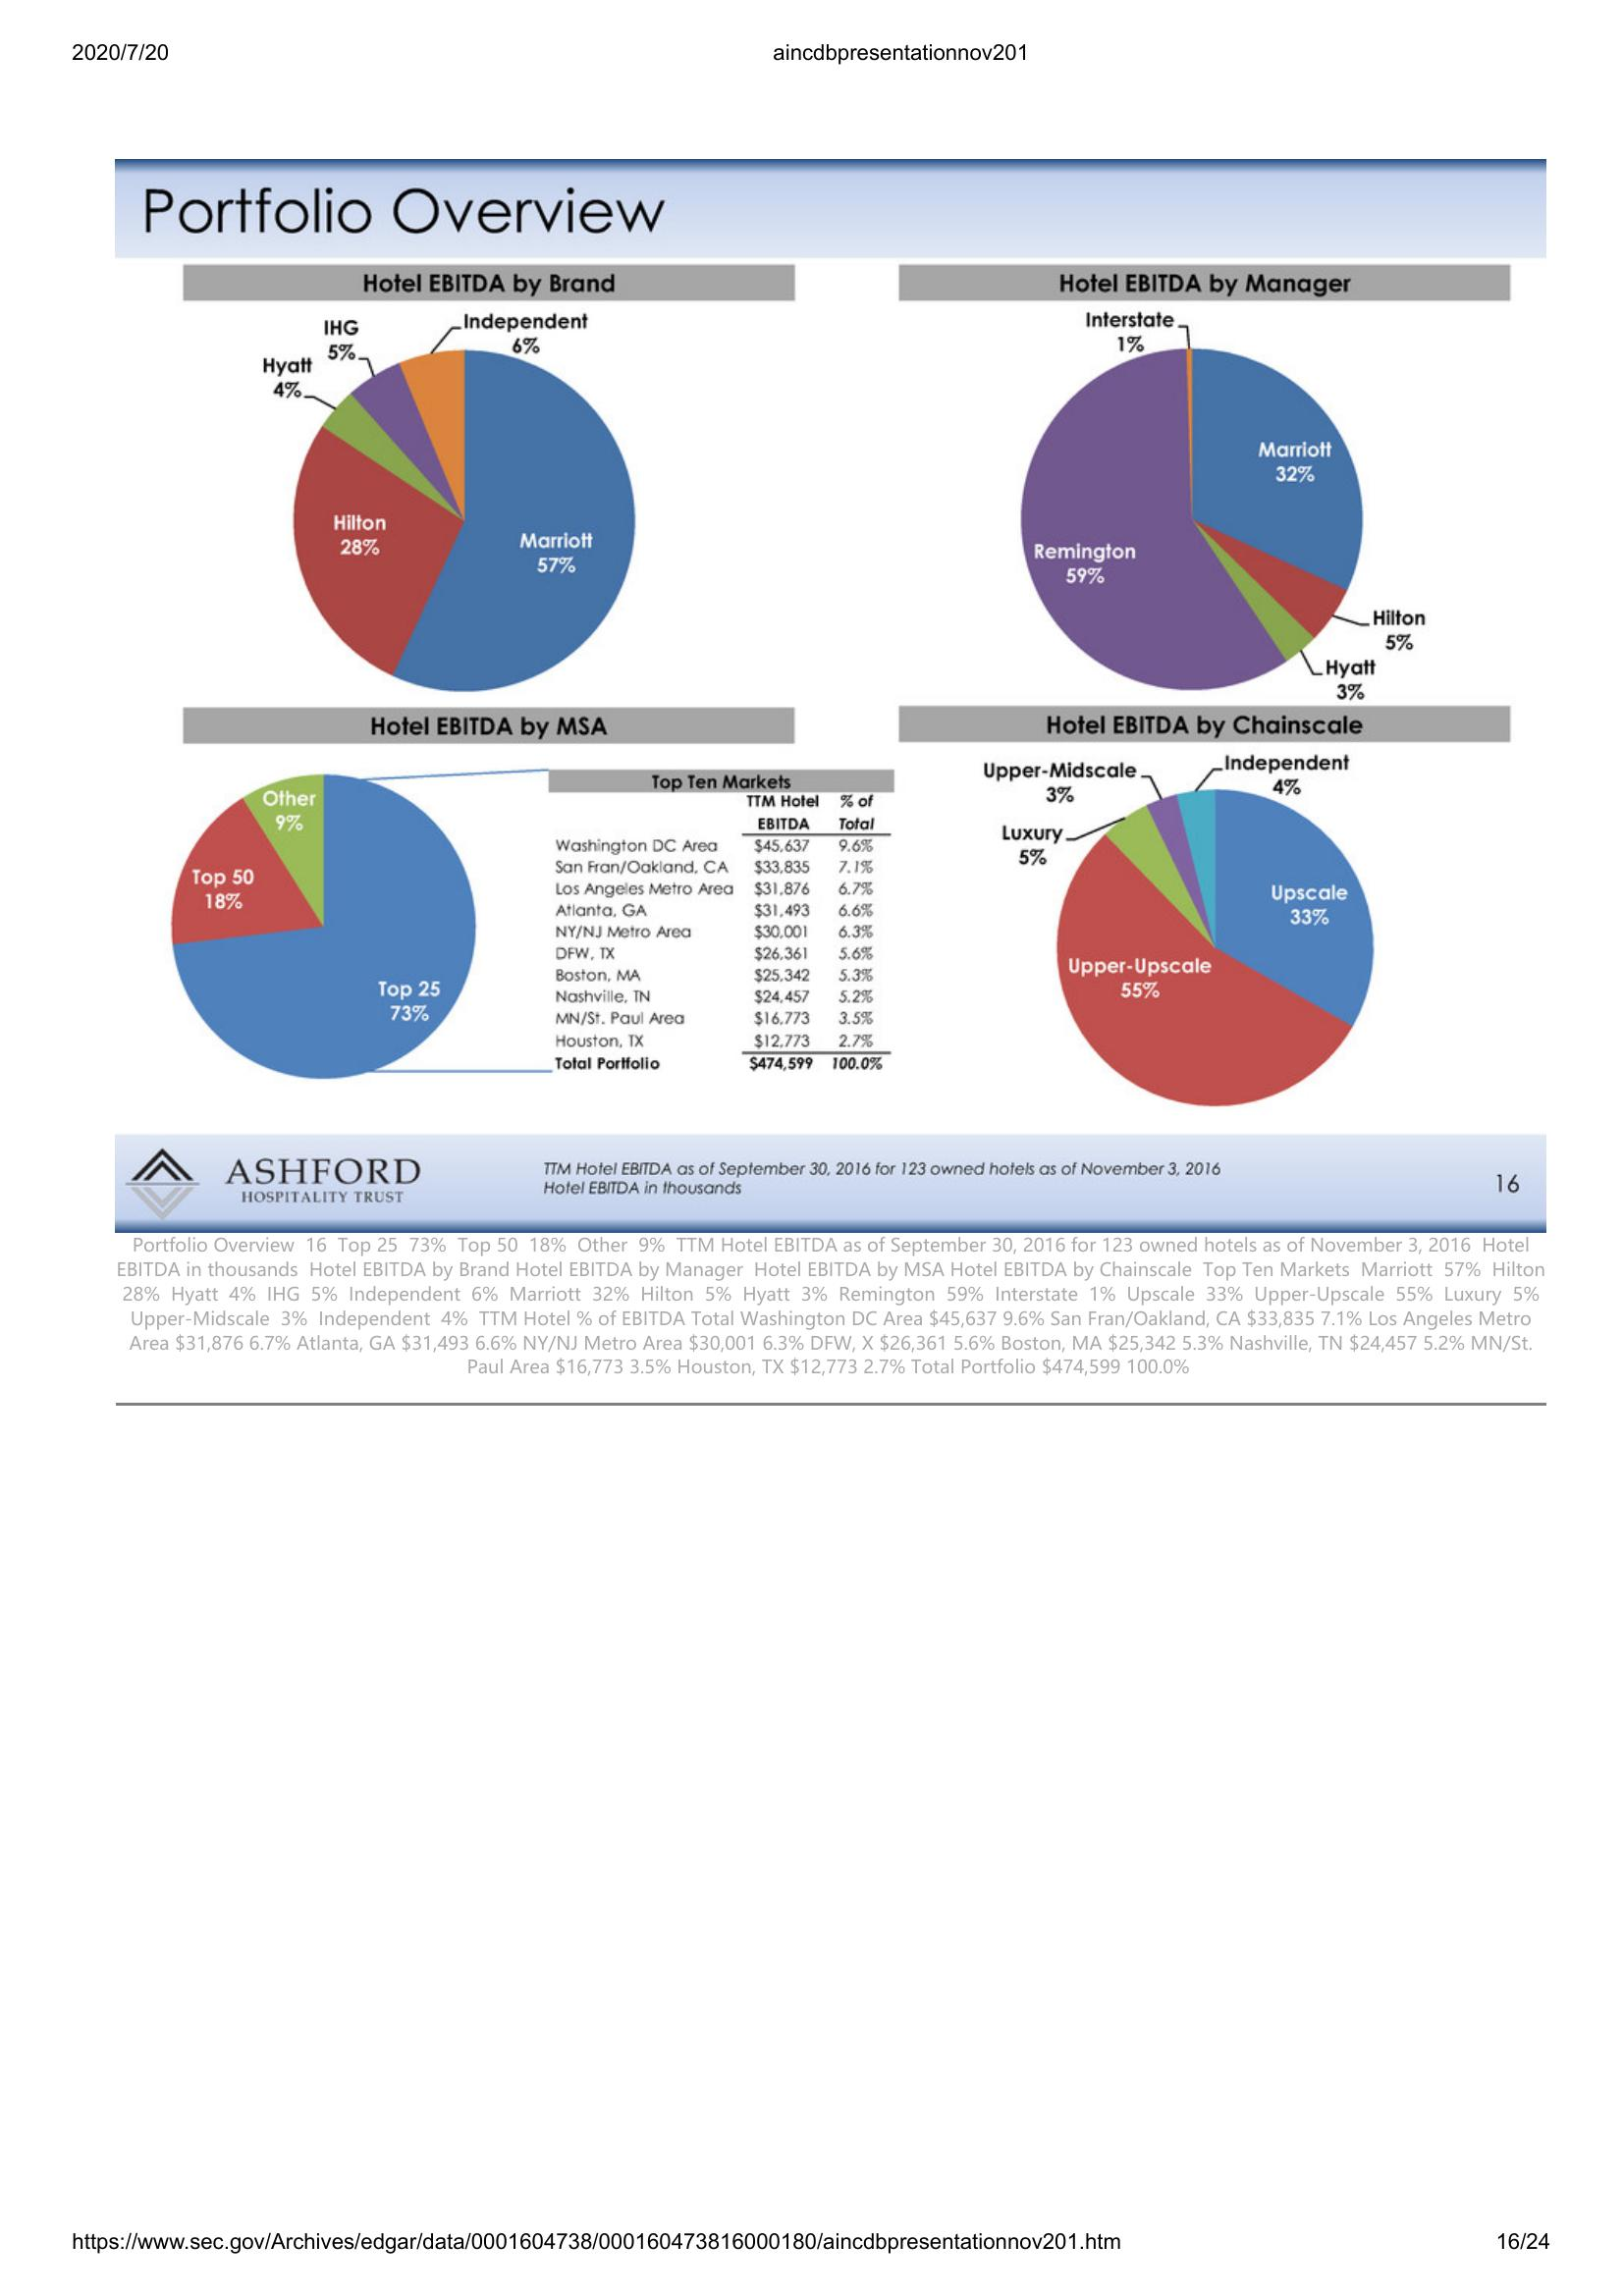table: (543, 760, 894, 1076)
